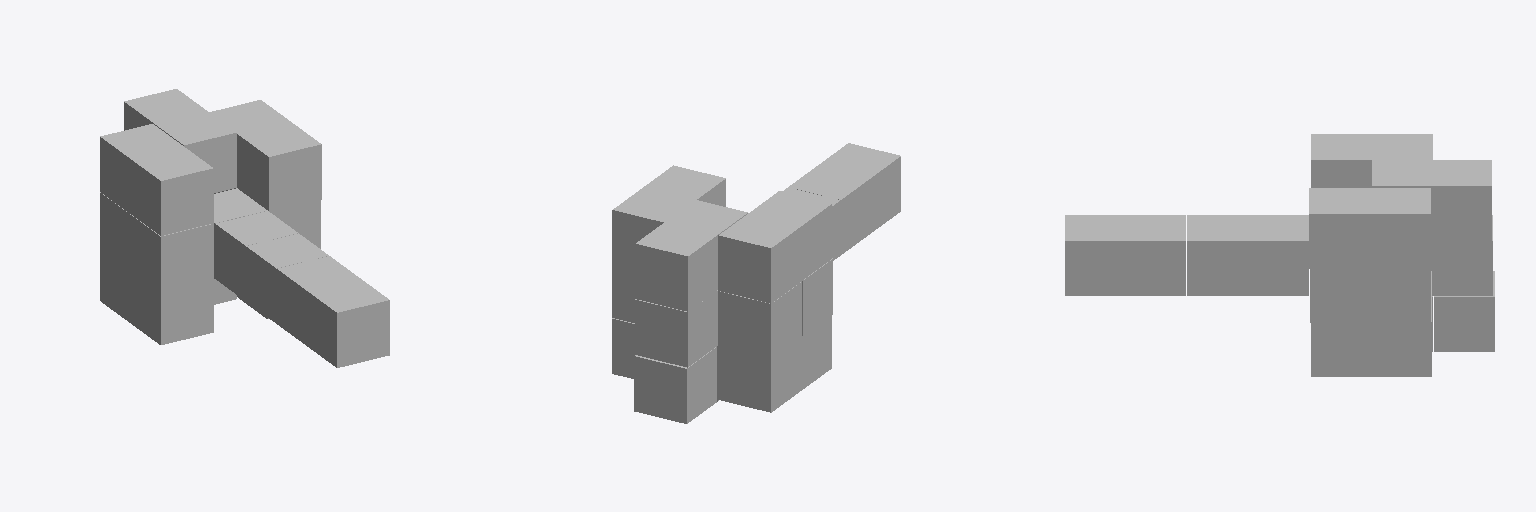
File: bullet.obj
The picture shows the model from 3 angles: view 1: azimuth 30°, elevation 25°; view 2: azimuth 150°, elevation 25°; view 3: azimuth 270°, elevation 25°; orthographic projection.
Parts seen in each view (by area): view 1: Cube.012_Cube.037, Cube.027_Cube.028, Cube.013_Cube.038, Cube.022_Cube.023, Cube.011_Cube.036, Cube.006, Cube, Cube.002, Cube.001, Cube.019_Cube.020, Cube.026_Cube.027, Cube.004 (+4 smaller); view 2: Cube.019_Cube.020, Cube.026_Cube.027, Cube.025_Cube.026, Cube.004, Cube.008, Cube.015_Cube.016, Cube.001, Cube.012_Cube.037, Cube.009, Cube.027_Cube.028, Cube.013_Cube.038, Cube.022_Cube.023 (+5 smaller); view 3: Cube, Cube.002, Cube.009, Cube.001, Cube.027_Cube.028, Cube.013_Cube.038, Cube.026_Cube.027, Cube.025_Cube.026, Cube.023_Cube.024, Cube.008, Cube.017_Cube.018, Cube.012_Cube.037 (+4 smaller).
Boxes of the visible parts, <box> form: Cube.012_Cube.037: <box>130,146,213,235</box>; Cube.027_Cube.028: <box>307,278,389,367</box>; Cube.013_Cube.038: <box>238,122,321,211</box>; Cube.022_Cube.023: <box>130,214,213,291</box>; Cube.011_Cube.036: <box>130,270,213,344</box>; Cube.006: <box>154,110,236,192</box>; Cube: <box>246,233,328,323</box>; Cube.002: <box>215,211,297,300</box>; Cube.001: <box>277,256,358,345</box>; Cube.019_Cube.020: <box>100,124,182,213</box>; Cube.026_Cube.027: <box>124,89,205,130</box>; Cube.004: <box>100,192,129,268</box>; Cube.019_Cube.020: <box>718,213,801,303</box>; Cube.026_Cube.027: <box>635,222,718,311</box>; Cube.025_Cube.026: <box>634,347,716,423</box>; Cube.004: <box>718,282,801,358</box>; Cube.008: <box>635,290,717,367</box>; Cube.015_Cube.016: <box>718,336,801,412</box>; Cube.001: <box>789,165,871,254</box>; Cube.012_Cube.037: <box>750,191,831,280</box>; Cube.009: <box>612,188,693,269</box>; Cube.027_Cube.028: <box>819,143,900,231</box>; Cube.013_Cube.038: <box>643,165,725,206</box>; Cube.022_Cube.023: <box>802,258,832,335</box>; Cube: <box>1187,215,1247,295</box>; Cube.002: <box>1248,215,1308,295</box>; Cube.009: <box>1370,188,1430,268</box>; Cube.001: <box>1125,215,1185,295</box>; Cube.027_Cube.028: <box>1065,215,1125,295</box>; Cube.013_Cube.038: <box>1309,188,1369,268</box>; Cube.026_Cube.027: <box>1431,160,1491,240</box>; Cube.025_Cube.026: <box>1434,271,1494,351</box>; Cube.023_Cube.024: <box>1310,267,1370,322</box>; Cube.008: <box>1432,215,1492,295</box>; Cube.017_Cube.018: <box>1371,296,1431,376</box>; Cube.012_Cube.037: <box>1311,134,1371,187</box>.
Size of the model in its own units: 6.07 by 6.03 by 14.06.